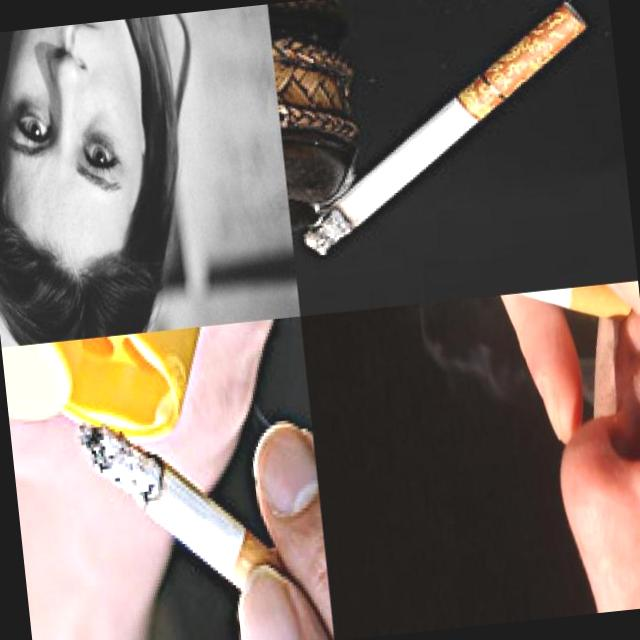smoke: (282, 0, 610, 260), (74, 400, 306, 638), (384, 282, 635, 344)
